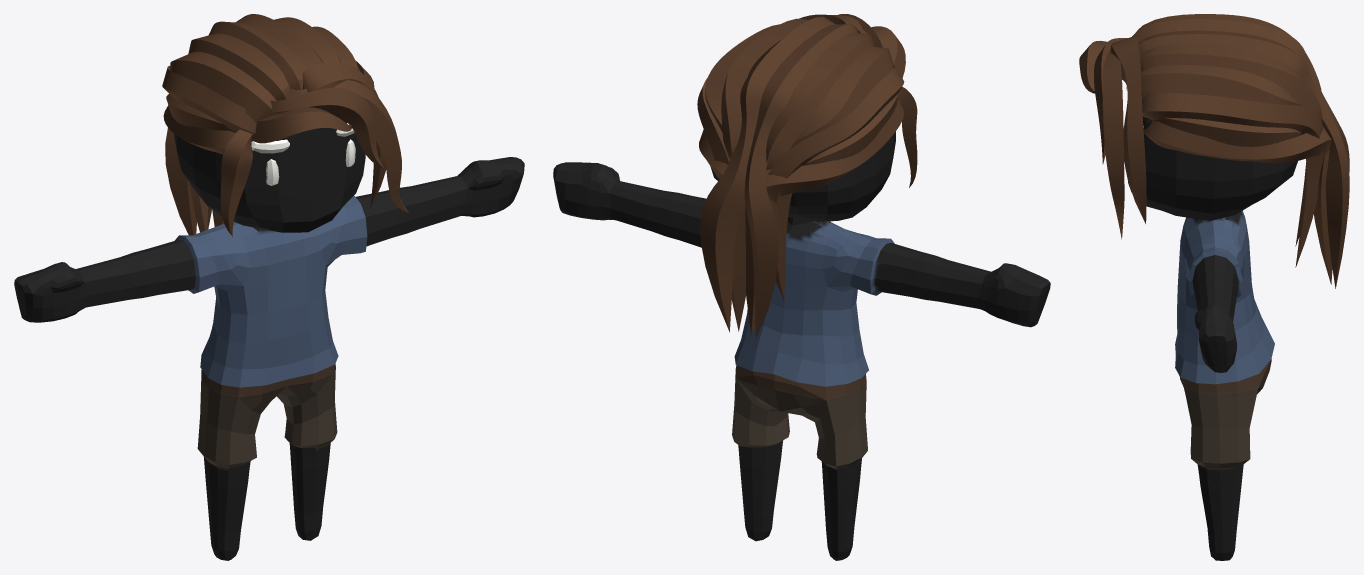
Rendered from Casual_Female.fbx.
3 views of the same model, side by side, from view 1: azimuth 30°, elevation 25°; view 2: azimuth 150°, elevation 25°; view 3: azimuth 270°, elevation 25° (orthographic). The views are drawn at different scales.
Parts seen in each view (by area): view 1: Body; view 2: Body; view 3: Body.
Part boxes in pixels (bbox=[...]): Body: bbox=[14, 14, 524, 560]; Body: bbox=[553, 14, 1050, 560]; Body: bbox=[1079, 14, 1349, 560].
Size of the model in its own units: 324 by 320 by 153.
1 material, 1 textured.
